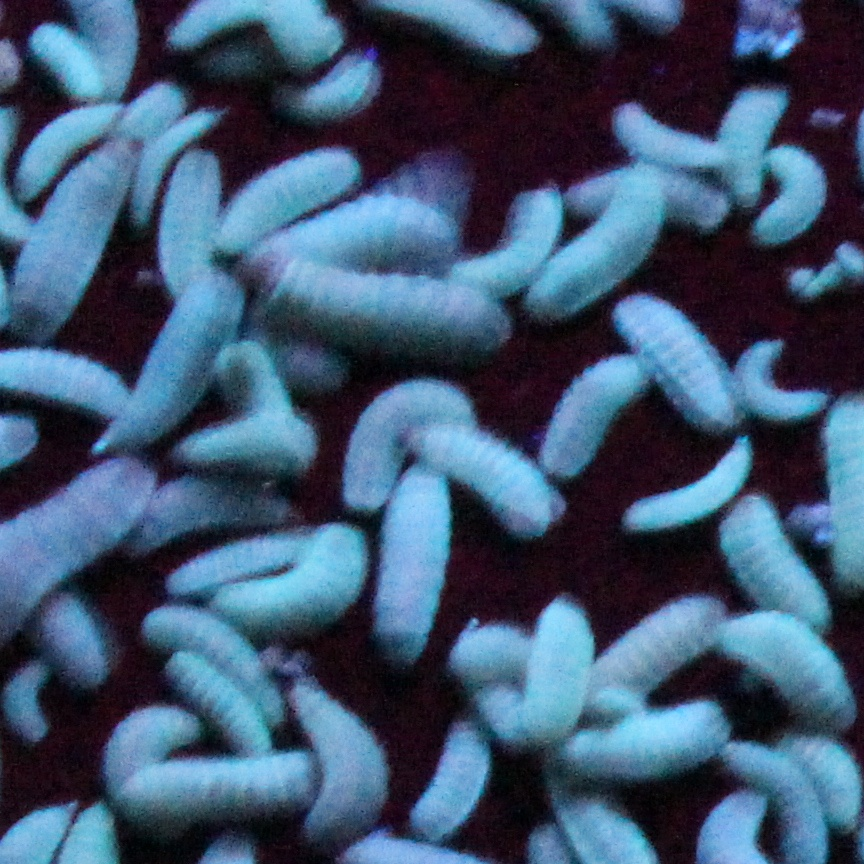larve: (250, 251, 507, 359), (13, 145, 140, 333), (116, 284, 246, 446), (406, 421, 564, 537), (360, 469, 457, 656), (719, 610, 861, 737), (532, 186, 664, 321), (232, 527, 376, 640), (144, 609, 284, 720), (617, 301, 732, 434), (133, 753, 320, 833), (531, 355, 651, 476), (290, 688, 388, 831), (621, 437, 752, 542), (596, 592, 723, 700), (719, 508, 831, 629), (334, 379, 456, 488), (161, 655, 282, 761), (129, 481, 300, 555), (562, 705, 727, 781), (219, 141, 360, 228), (292, 190, 450, 265), (412, 724, 500, 832), (582, 170, 728, 235), (131, 106, 211, 220), (528, 603, 588, 745), (105, 709, 191, 796), (736, 343, 825, 422), (722, 82, 772, 211), (616, 106, 717, 169), (175, 423, 315, 467), (758, 153, 822, 245), (278, 65, 374, 113), (174, 158, 212, 279), (1, 663, 53, 748), (36, 37, 93, 98), (455, 632, 527, 679)
